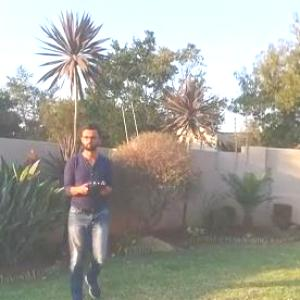follow: (60, 119, 115, 299)
